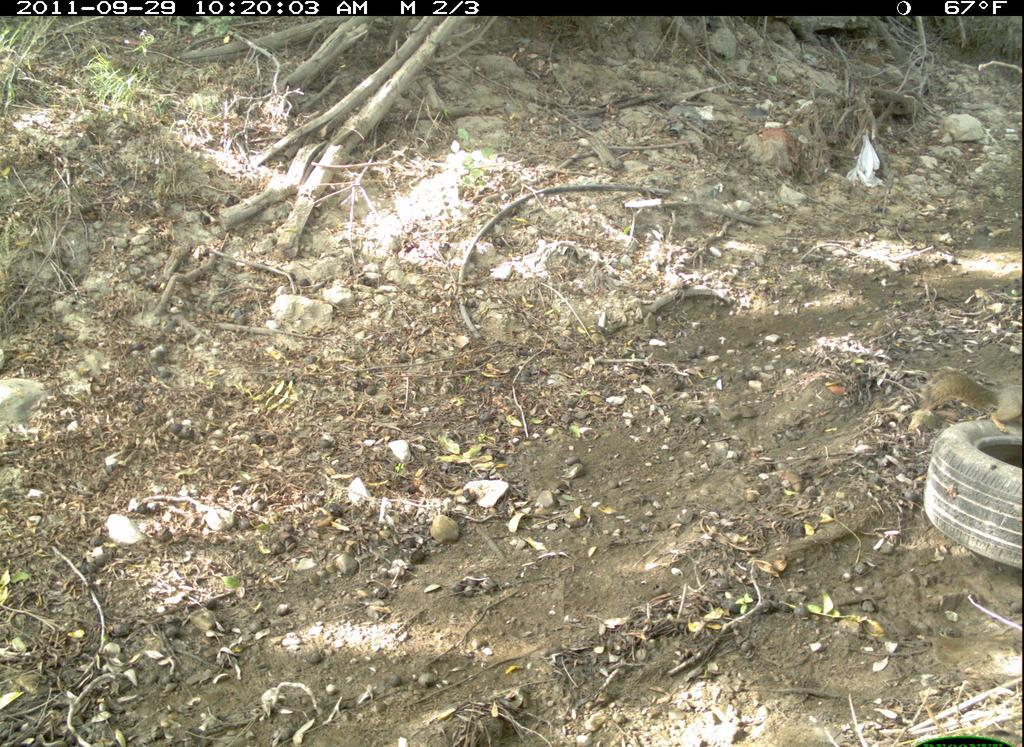squirrel: (904, 341, 1023, 443)
